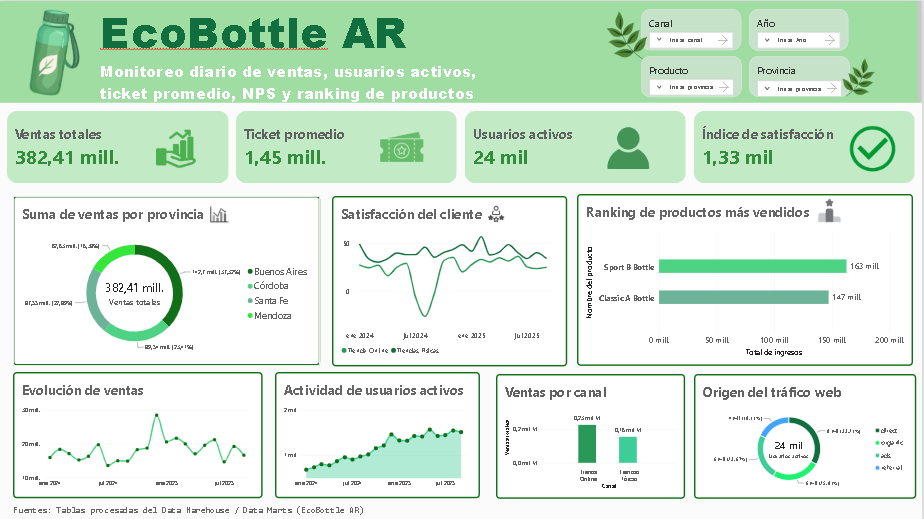

The dashboard page shown, as its layout file describes it:
{"tool":"powerbi","page":{"name":"Página 1","canvas":[1920,1080],"ordinal":0},"visuals":[{"type":"textbox","box":[0,0,1920,212],"z":0},{"type":"textSlicer","title":"Canal","fields":{"Values":["dm_ventas_resumen.channel_name"]},"box":[1335.7,16.2,209,86],"z":1000},{"type":"textSlicer","fields":{"Values":["dm_ventas_resumen.periodo_str.Variation.Jerarquía de fechas.Año"]},"box":[1560.7,16.2,206.7,86.7],"z":2000},{"type":"textSlicer","title":"Producto","fields":{"Values":["dm_ranking_productos.product_name"]},"box":[1335.7,115.3,210,85.8],"z":3000},{"type":"textSlicer","title":"Provincia","fields":{"Values":["dm_ventas_provincia.province_name"]},"box":[1560.7,115.3,210,85],"z":4000},{"type":"cardVisual","title":"HOLA","fields":{"Data":["Sum(dm_ventas_resumen.total_ventas)"]},"box":[15,230,462.5,150],"z":5000},{"type":"cardVisual","title":"HOLA","fields":{"Data":["Sum(dm_ventas_resumen.ticket_promedio)"]},"box":[491.2,230,460,150],"z":6000},{"type":"cardVisual","title":"HOLA","fields":{"Data":["Sum(dm_usuarios_activos.usuarios_activos)"]},"box":[968.8,230,460,150],"z":7000},{"type":"cardVisual","title":"HOLA","fields":{"Data":["Sum(dm_nps_mensual.nps_score)"]},"box":[1446.2,230,460,150],"z":8000},{"type":"donutChart","title":"Suma de ventas por provincia","fields":{"Category":["dm_ventas_provincia.province_name"],"Y":["Sum(dm_ventas_provincia.total_ventas)"]},"box":[26.7,406.7,640,353.3],"z":9000},{"type":"shape","box":[3114.7,43.5,13.3,150],"z":10000},{"type":"lineChart","title":"Evolución de ventas","fields":{"Category":["dm_ventas_resumen.periodo_str.Variation.Jerarquía de fechas.Año","dm_ventas_resumen.periodo_str.Variation.Jerarquía de fechas.Mes"],"Y":["Sum(dm_ventas_resumen.total_ventas)"]},"box":[26.7,773.3,520,263.3],"z":11000},{"type":"areaChart","title":"Actividad de usuarios activos","fields":{"Category":["dm_usuarios_activos.periodo_str.Variation.Jerarquía de fechas.Año","dm_usuarios_activos.periodo_str.Variation.Jerarquía de fechas.Mes"],"Y":["Sum(dm_usuarios_activos.usuarios_activos)"]},"box":[573.3,773.3,426.7,263.3],"z":12000},{"type":"lineChart","title":"Satisfacción del cliente","fields":{"Category":["dm_nps_mensual.periodo_str.Variation.Jerarquía de fechas.Año","dm_nps_mensual.periodo_str.Variation.Jerarquía de fechas.Mes"],"Series":["dm_nps_mensual.channel_name"],"Y":["Sum(dm_nps_mensual.nps_score)"]},"box":[691.4,407.1,490,355],"z":13000},{"type":"clusteredBarChart","title":"Ranking de productos más vendidos","fields":{"Category":["dm_ranking_productos.product_name"],"Y":["Sum(dm_ranking_productos.total_ingresos)"]},"box":[1202,402,700,357.5],"z":14000},{"type":"lineClusteredColumnComboChart","title":"Ventas por canal","fields":{"Category":["dm_ventas_resumen.channel_name"],"Y":["Sum(dm_ventas_resumen.total_ventas)"]},"box":[1033.3,776.7,394.4,260],"z":15000},{"type":"donutChart","title":"Origen del tráfico web","fields":{"Category":["dm_usuarios_activos.traffic_source"],"Y":["Sum(dm_usuarios_activos.usuarios_activos)"]},"box":[1446.7,776.7,463.3,260],"z":16000},{"type":"image","box":[45,0,132.8,199.4],"z":17000},{"type":"image","box":[326,236,82.5,145],"z":18000},{"type":"image","box":[775.6,248.9,123.3,112.2],"z":19000},{"type":"image","box":[1261.7,255,93.3,105],"z":20000},{"type":"image","box":[1758.9,258.9,118.9,98.9],"z":21000},{"type":"image","box":[435,414.2,42.5,60],"z":22000},{"type":"image","box":[1016,419,34.2,49.2],"z":23000},{"type":"image","box":[1701,407,56,61],"z":24000},{"type":"textbox","box":[27.1,1050,837.1,30],"z":25000},{"type":"image","box":[1247.5,20,116.2,100],"z":25001},{"type":"image","box":[1743.8,118.8,87.5,80],"z":25002}]}

Visuals, with their boxes in screenshot pixels (x1, y1, x2, y2), scaled from the page's 1920x1080 canvas onto the 924x519 screenshot:
textbox: (0,0,923,102)
"Canal" textSlicer: (643,8,743,49)
textSlicer - dm_ventas_resumen.periodo_str.Variation.Jerarquía de fechas.Año: (751,8,851,49)
"Producto" textSlicer: (643,55,744,97)
"Provincia" textSlicer: (751,55,852,96)
"HOLA" cardVisual: (7,111,230,183)
"HOLA" cardVisual: (236,111,458,183)
"HOLA" cardVisual: (466,111,688,183)
"HOLA" cardVisual: (696,111,917,183)
"Suma de ventas por provincia" donutChart: (13,195,321,365)
"Evolución de ventas" lineChart: (13,372,263,498)
"Actividad de usuarios activos" areaChart: (276,372,481,498)
"Satisfacción del cliente" lineChart: (333,196,569,366)
"Ranking de productos más vendidos" clusteredBarChart: (578,193,915,365)
"Ventas por canal" lineClusteredColumnComboChart: (497,373,687,498)
"Origen del tráfico web" donutChart: (696,373,919,498)
image: (22,0,86,96)
image: (157,113,197,183)
image: (373,120,433,174)
image: (607,123,652,173)
image: (846,124,904,172)
image: (209,199,230,228)
image: (489,201,505,225)
image: (819,196,846,225)
textbox: (13,505,416,518)
image: (600,10,656,58)
image: (839,57,881,96)
